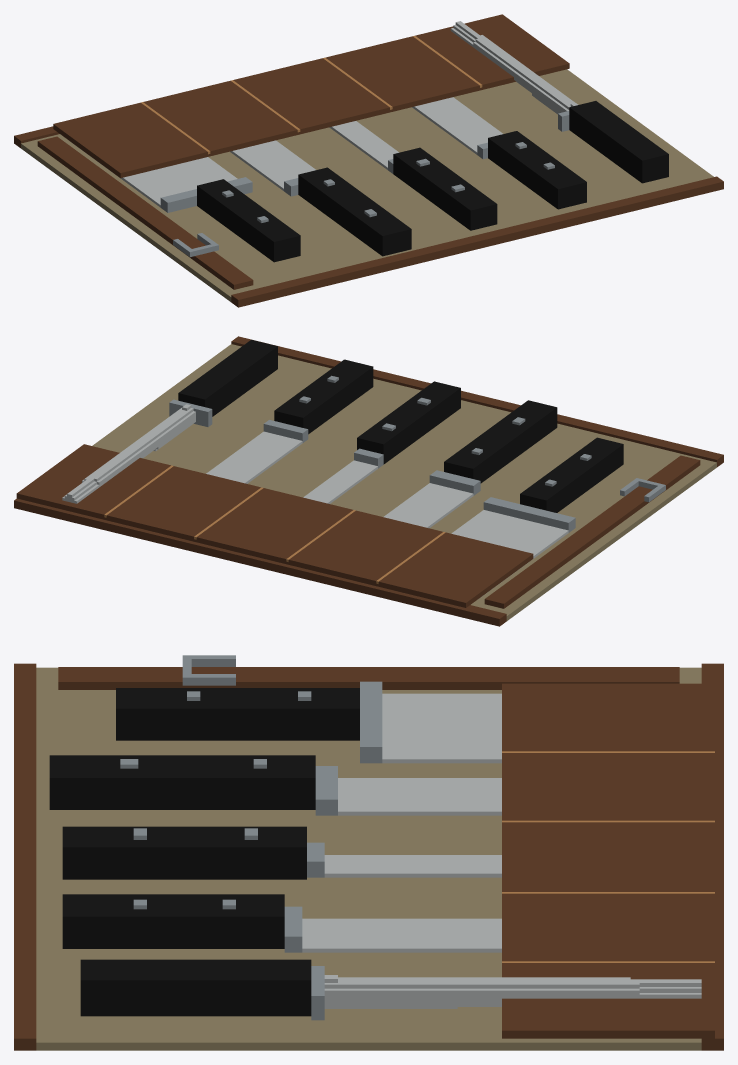
Rendered from butchering_kit.glb.
3 views of the same model, one above another, from view 1: azimuth 30°, elevation 25°; view 2: azimuth 150°, elevation 25°; view 3: azimuth 270°, elevation 25° (orthographic). The views are drawn at different scales.
Visible parts, largest first — view 1: butchering_kit:compound; view 2: butchering_kit:compound; view 3: butchering_kit:compound.
Boxes of the visible parts, left/top/right/bottom form: butchering_kit:compound: left=14, top=14, right=723, bottom=307; butchering_kit:compound: left=14, top=336, right=723, bottom=626; butchering_kit:compound: left=14, top=655, right=723, bottom=1050.
Size of the model in its own units: 0.4 by 0.022 by 0.32.
